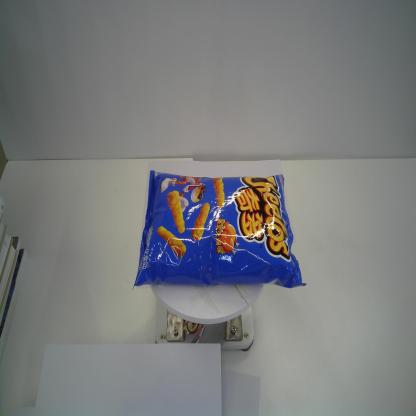Puffed Food: (132, 170, 307, 290)
